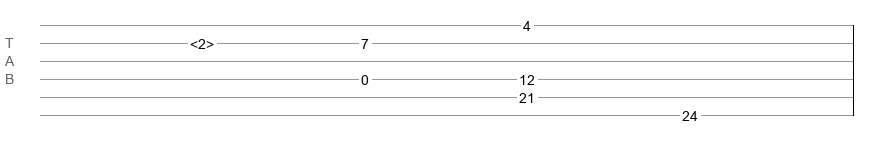0: (361, 72, 369, 82)
12: (519, 72, 535, 82)
21: (519, 90, 535, 100)
24: (682, 108, 698, 118)
4: (523, 18, 531, 28)
7: (361, 36, 369, 46)
harmonic: (190, 36, 214, 46)
